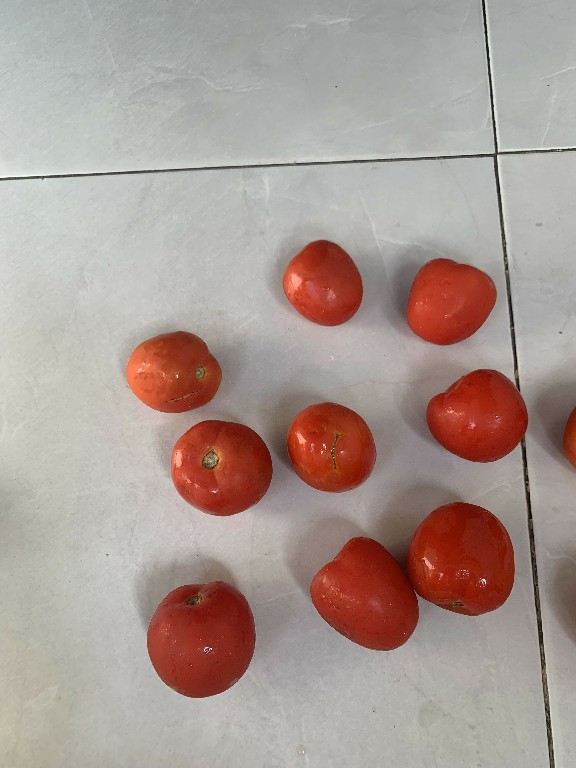NG: (287, 396, 381, 498), (118, 325, 225, 413)
OK: (407, 491, 522, 625), (144, 573, 260, 705), (303, 531, 419, 655), (421, 364, 534, 468), (164, 457, 274, 554), (403, 250, 500, 349), (275, 231, 365, 332)
